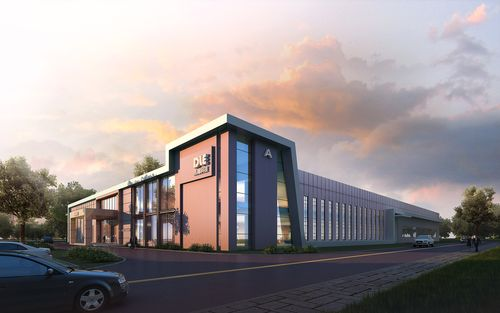buildings: (79, 124, 406, 253)
